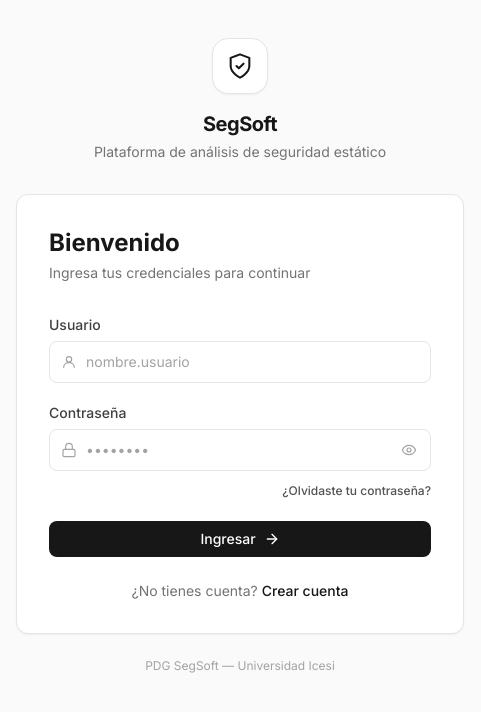
it: LoginForm › shows error when submitting without username
Step 1. Click the button "Ingresar" → x=240, y=539, box [49, 521, 431, 557]
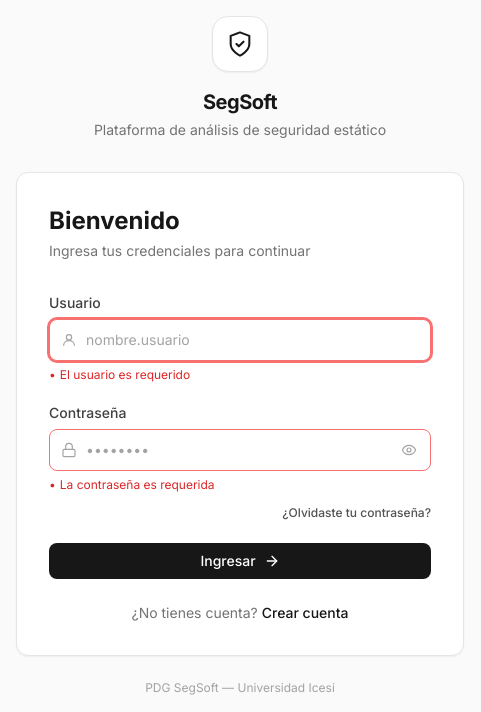
Expected: the text "• El usuario es requerido" is shown, [49, 367, 190, 382]
